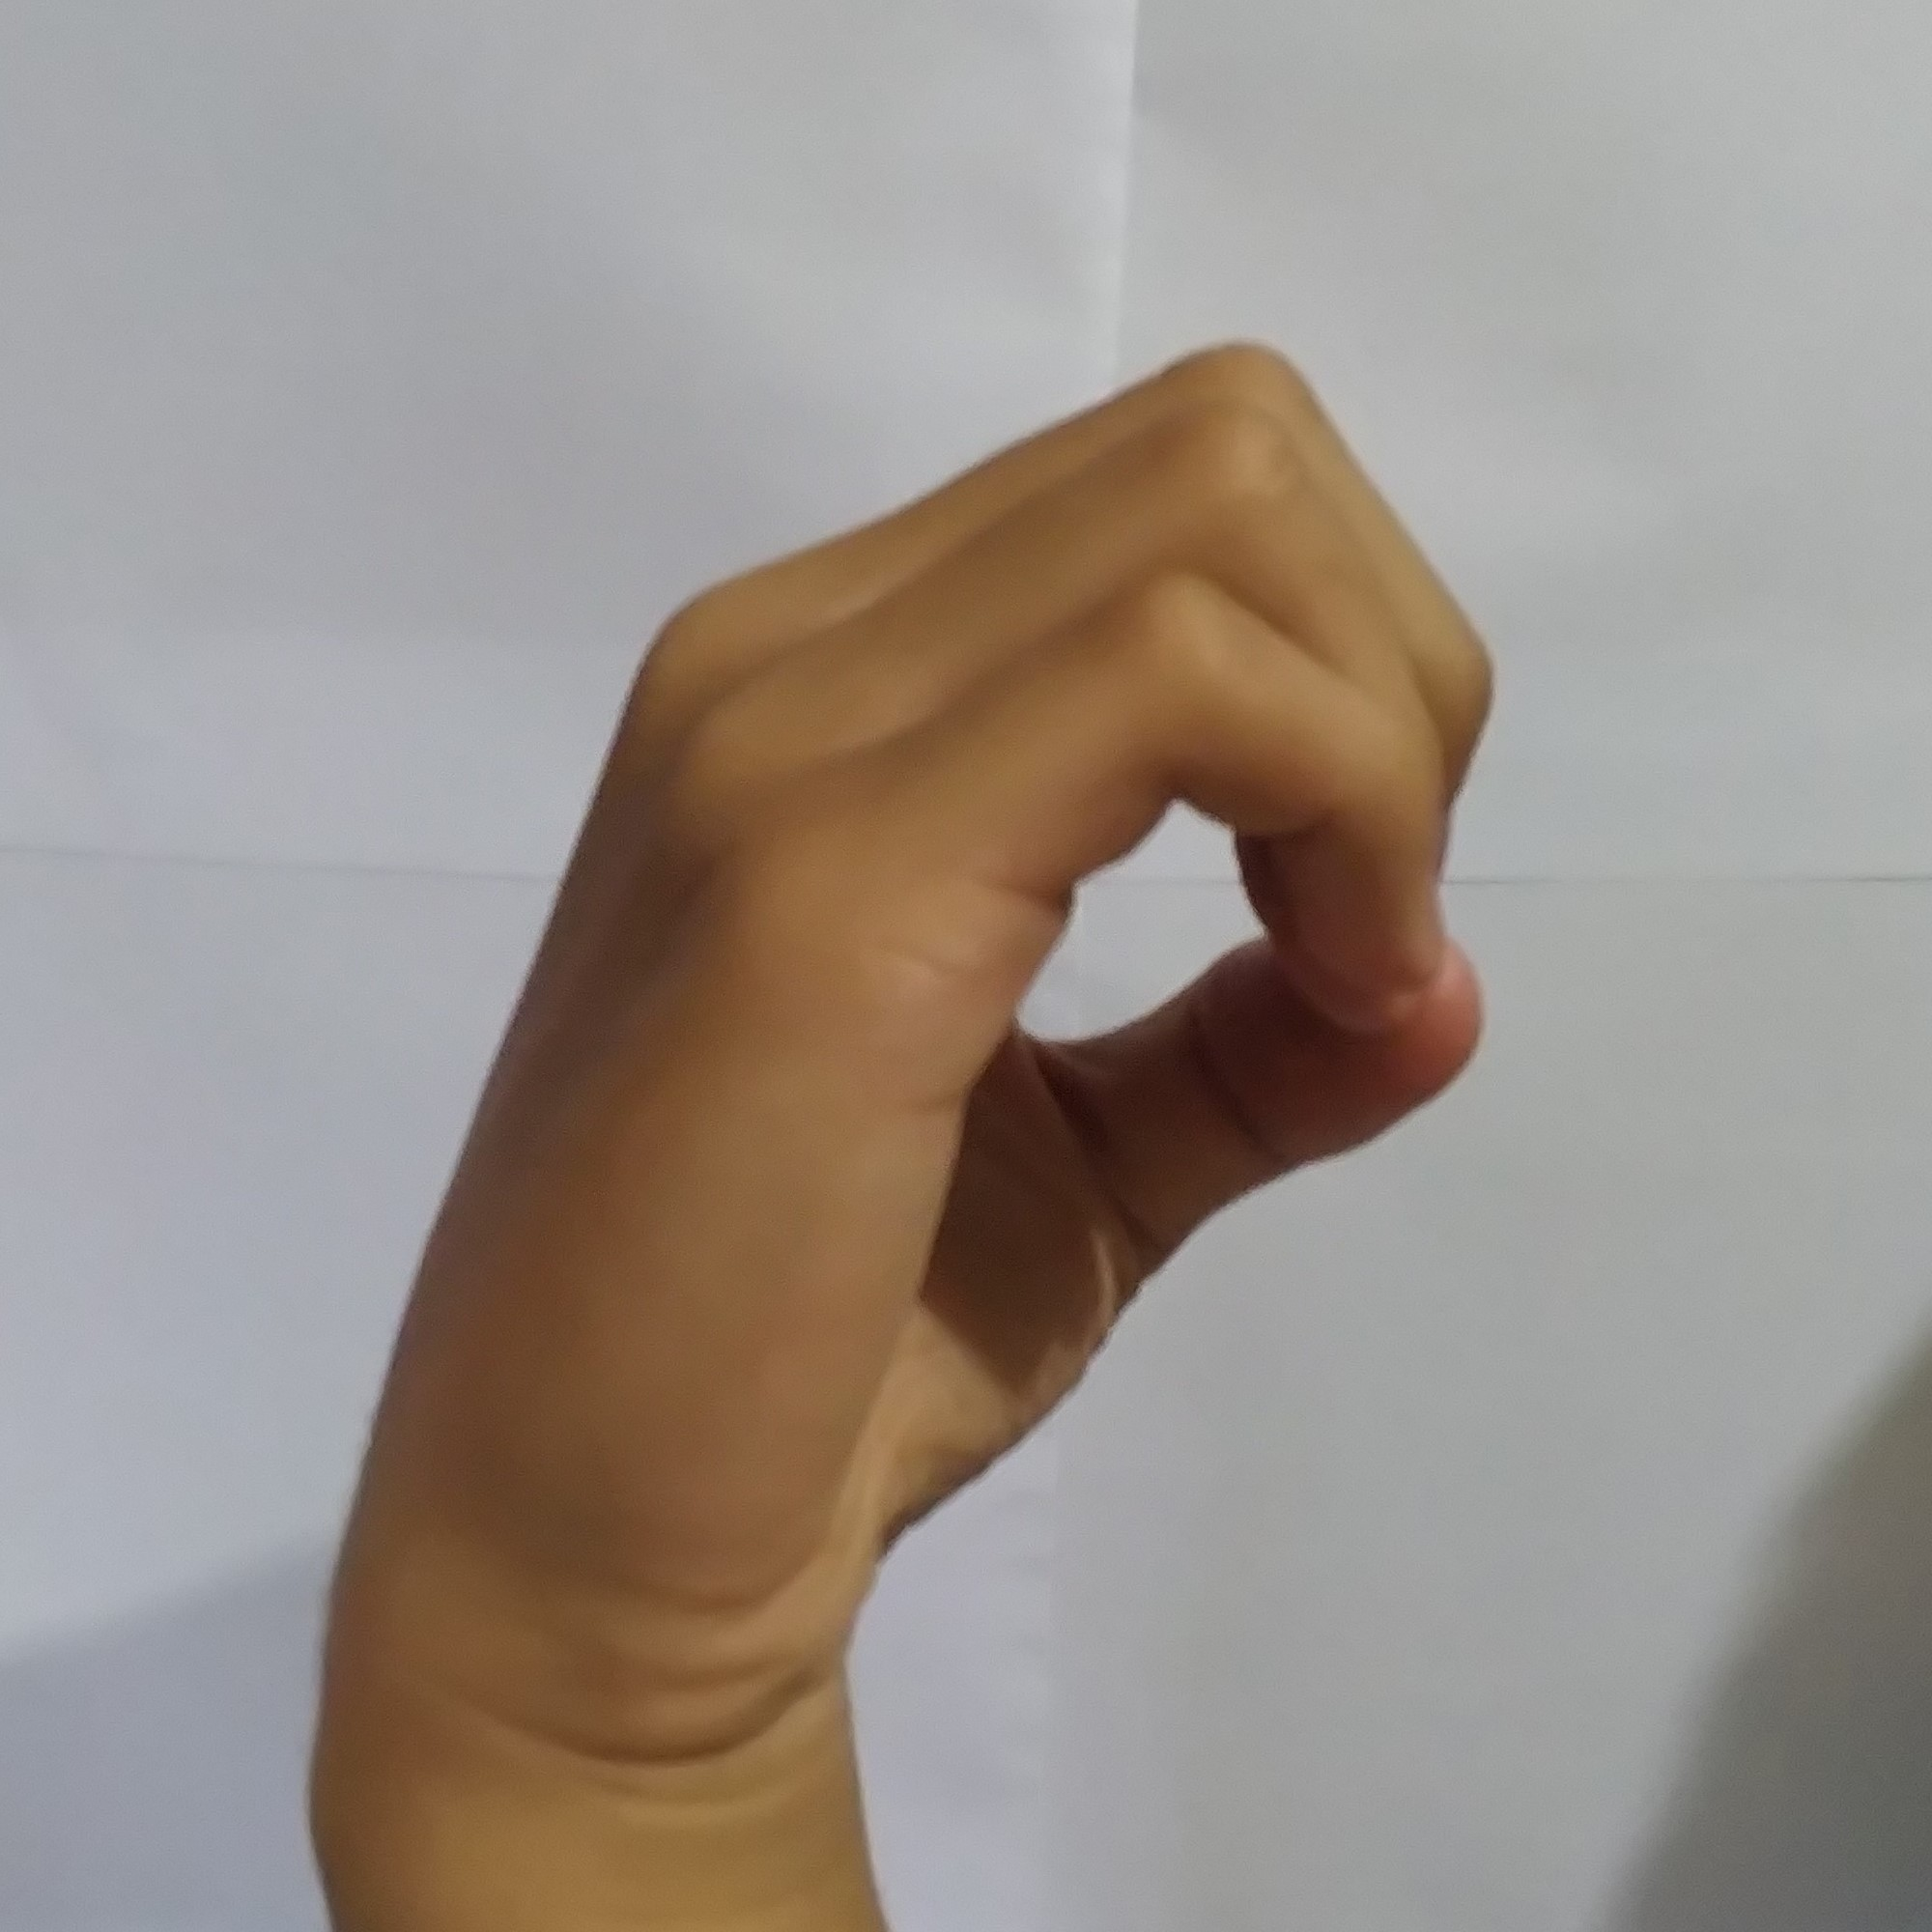O: (320, 308, 1534, 1683)
